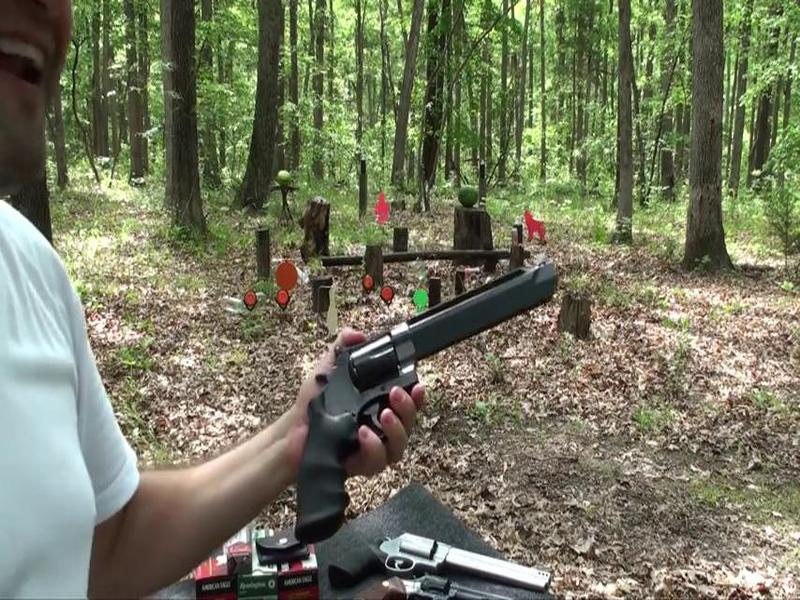Revolver: (265, 247, 576, 523)
